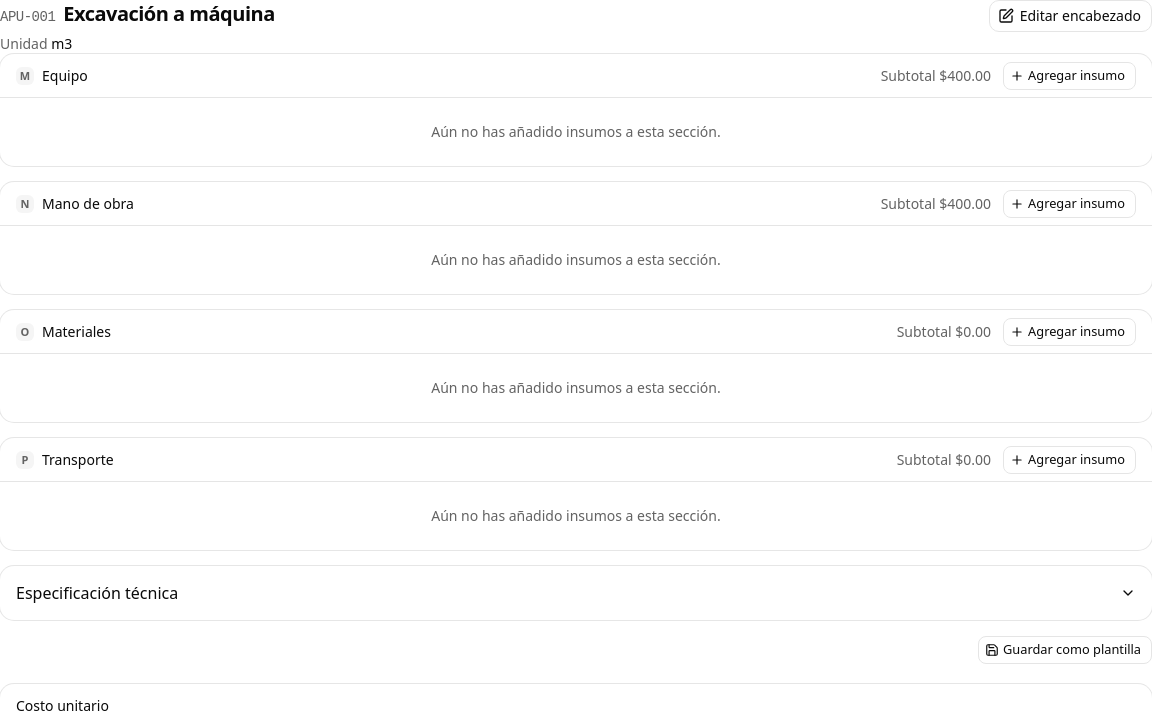
EditorApuPage › cierra el diálogo del selector tras una selección exitosa
Click the button "Agregar insumo" in the row of "Materiales" at [1070, 332], box [1003,318,1136,346]
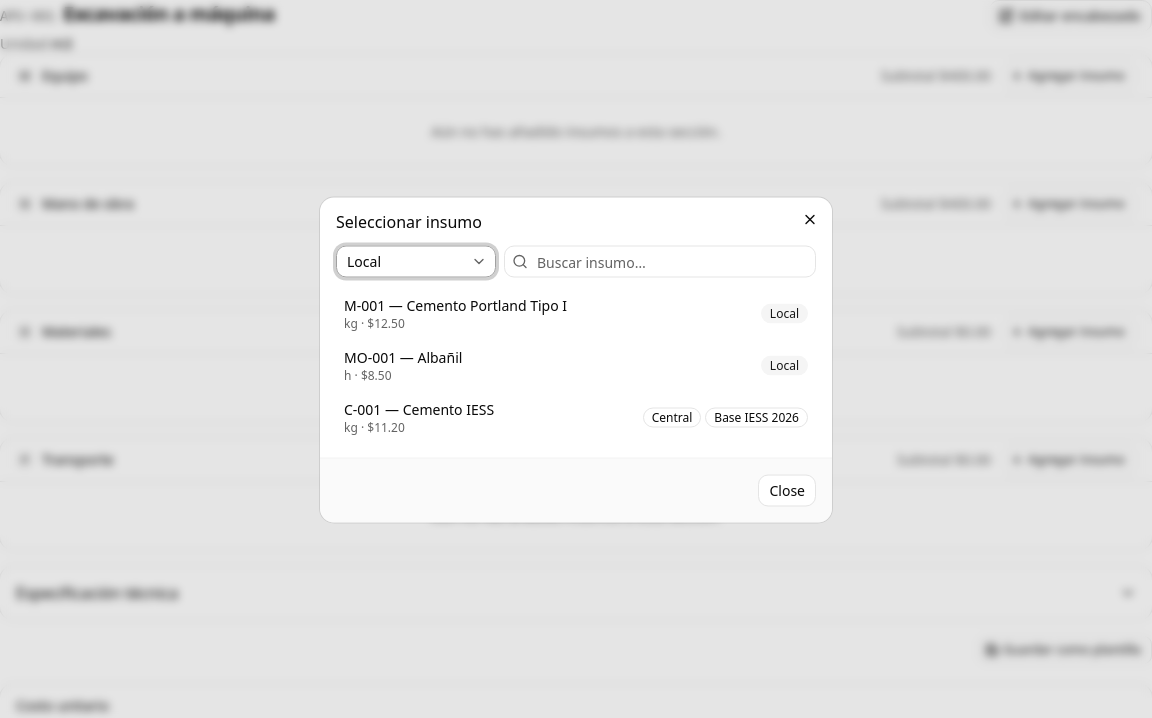
Check: the dialog "Seleccionar insumo" is shown, box [320,198,832,522]
Click the button "M-001 — Cemento Portland Tipo I kg · $12.50 Local" at [365, 305], box [336,290,816,338]
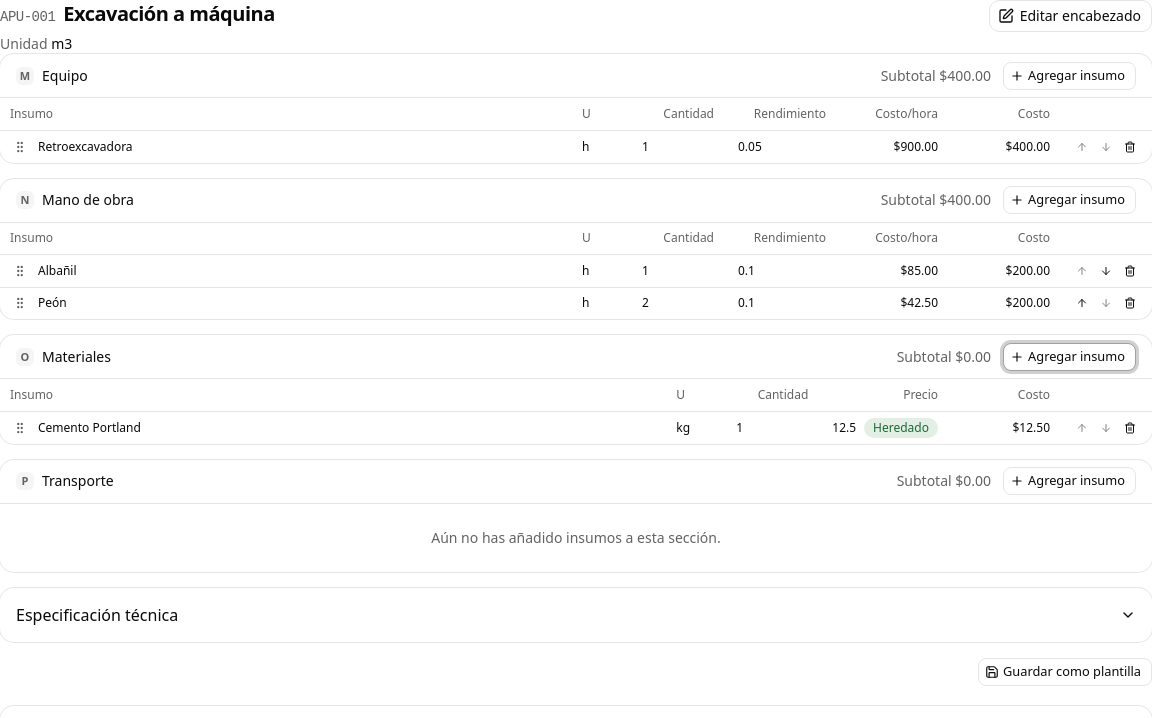
Check: the heading "Seleccionar insumo" is gone
